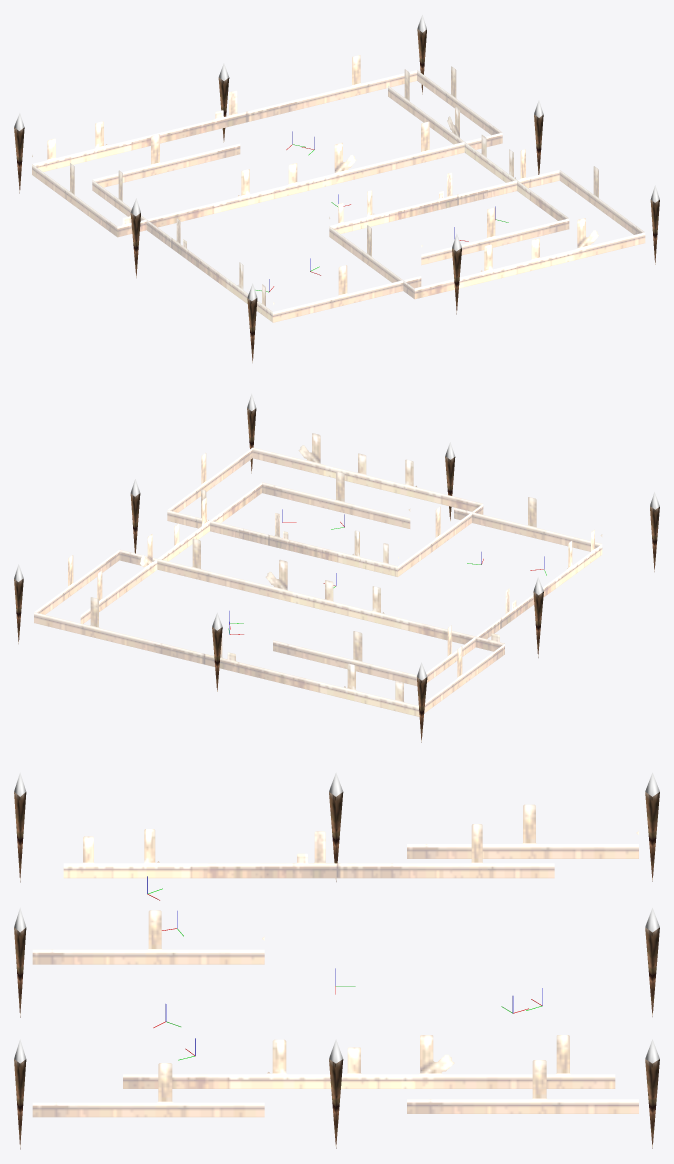
File: construction-a.glb
The picture shows the model from 3 angles, top to bottom: view 1: azimuth 30°, elevation 25°; view 2: azimuth 150°, elevation 25°; view 3: azimuth 270°, elevation 25°; orthographic projection. The views are drawn at different scales.
Visible parts, largest first — view 1: building construction medium aModel; view 2: building construction medium aModel; view 3: building construction medium aModel.
Boxes of the visible parts, x1=… form: building construction medium aModel: x1=14, y1=15, x2=659, y2=362; building construction medium aModel: x1=14, y1=393, x2=659, y2=742; building construction medium aModel: x1=14, y1=772, x2=659, y2=1149.
Size of the model in its own units: 8.12 by 1.54 by 8.16.
Materials: 4 (2 with a texture image).
